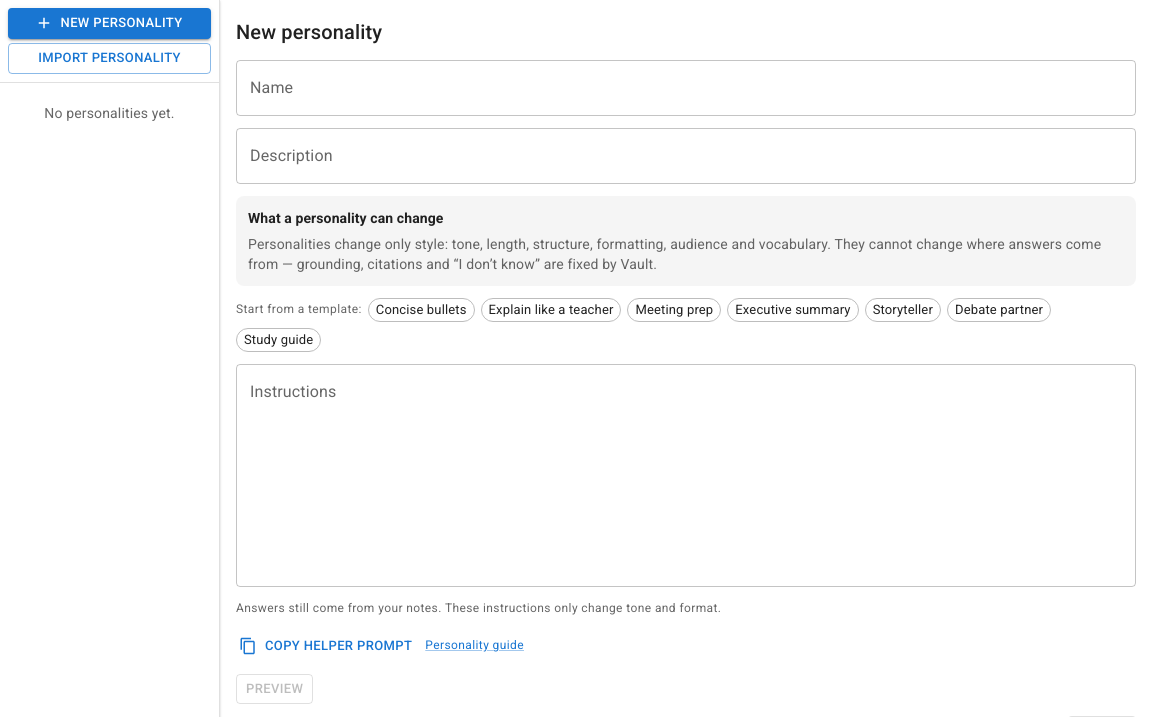
Scenario: PromptsView › copies the helper prompt to the clipboard
Click the button "Copy helper prompt" at (327, 646), box 236,631 -> 417,662
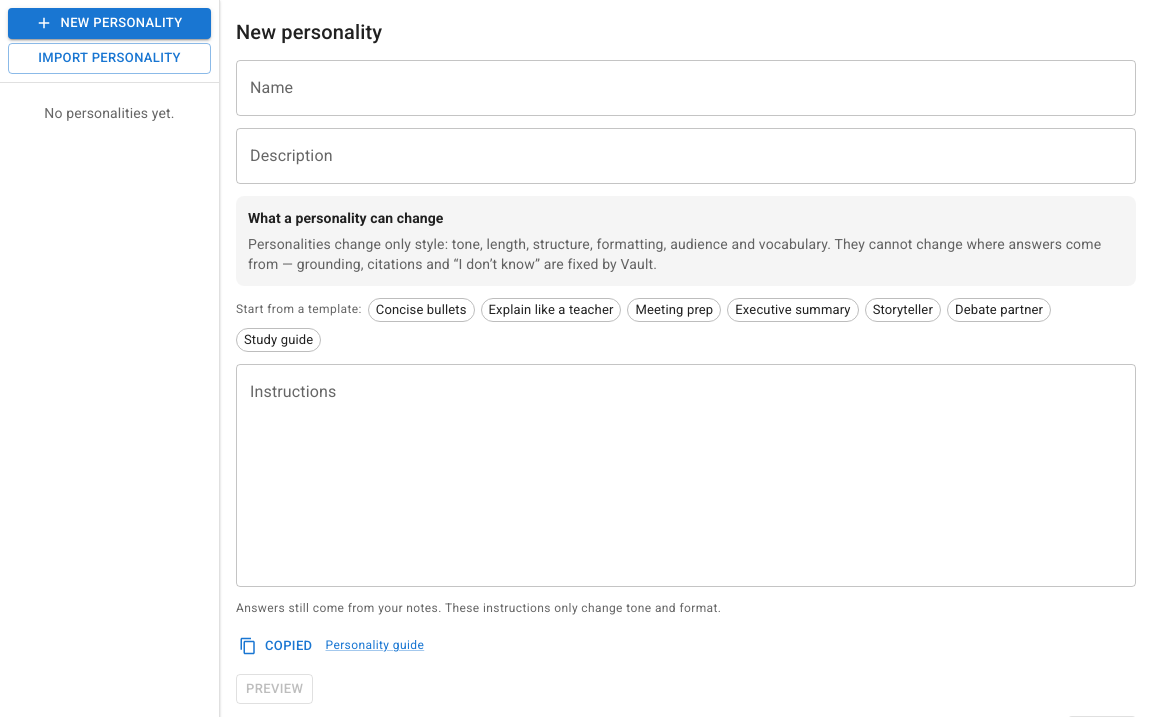
Check: the button "Copied" is shown, box 236,631 -> 318,662
